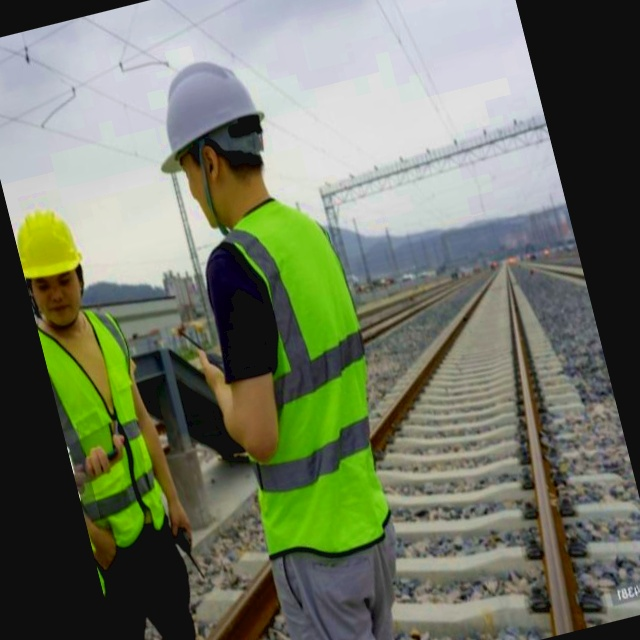Con_Casco: (135, 51, 284, 235), (9, 201, 99, 328)
Con_Chaleco: (182, 194, 413, 570), (35, 300, 175, 554)
